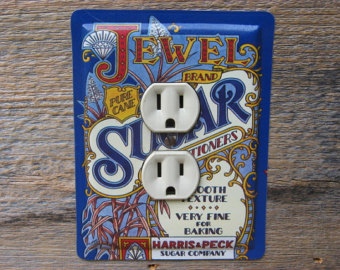outlet: (154, 91, 187, 130), (154, 158, 187, 197)
